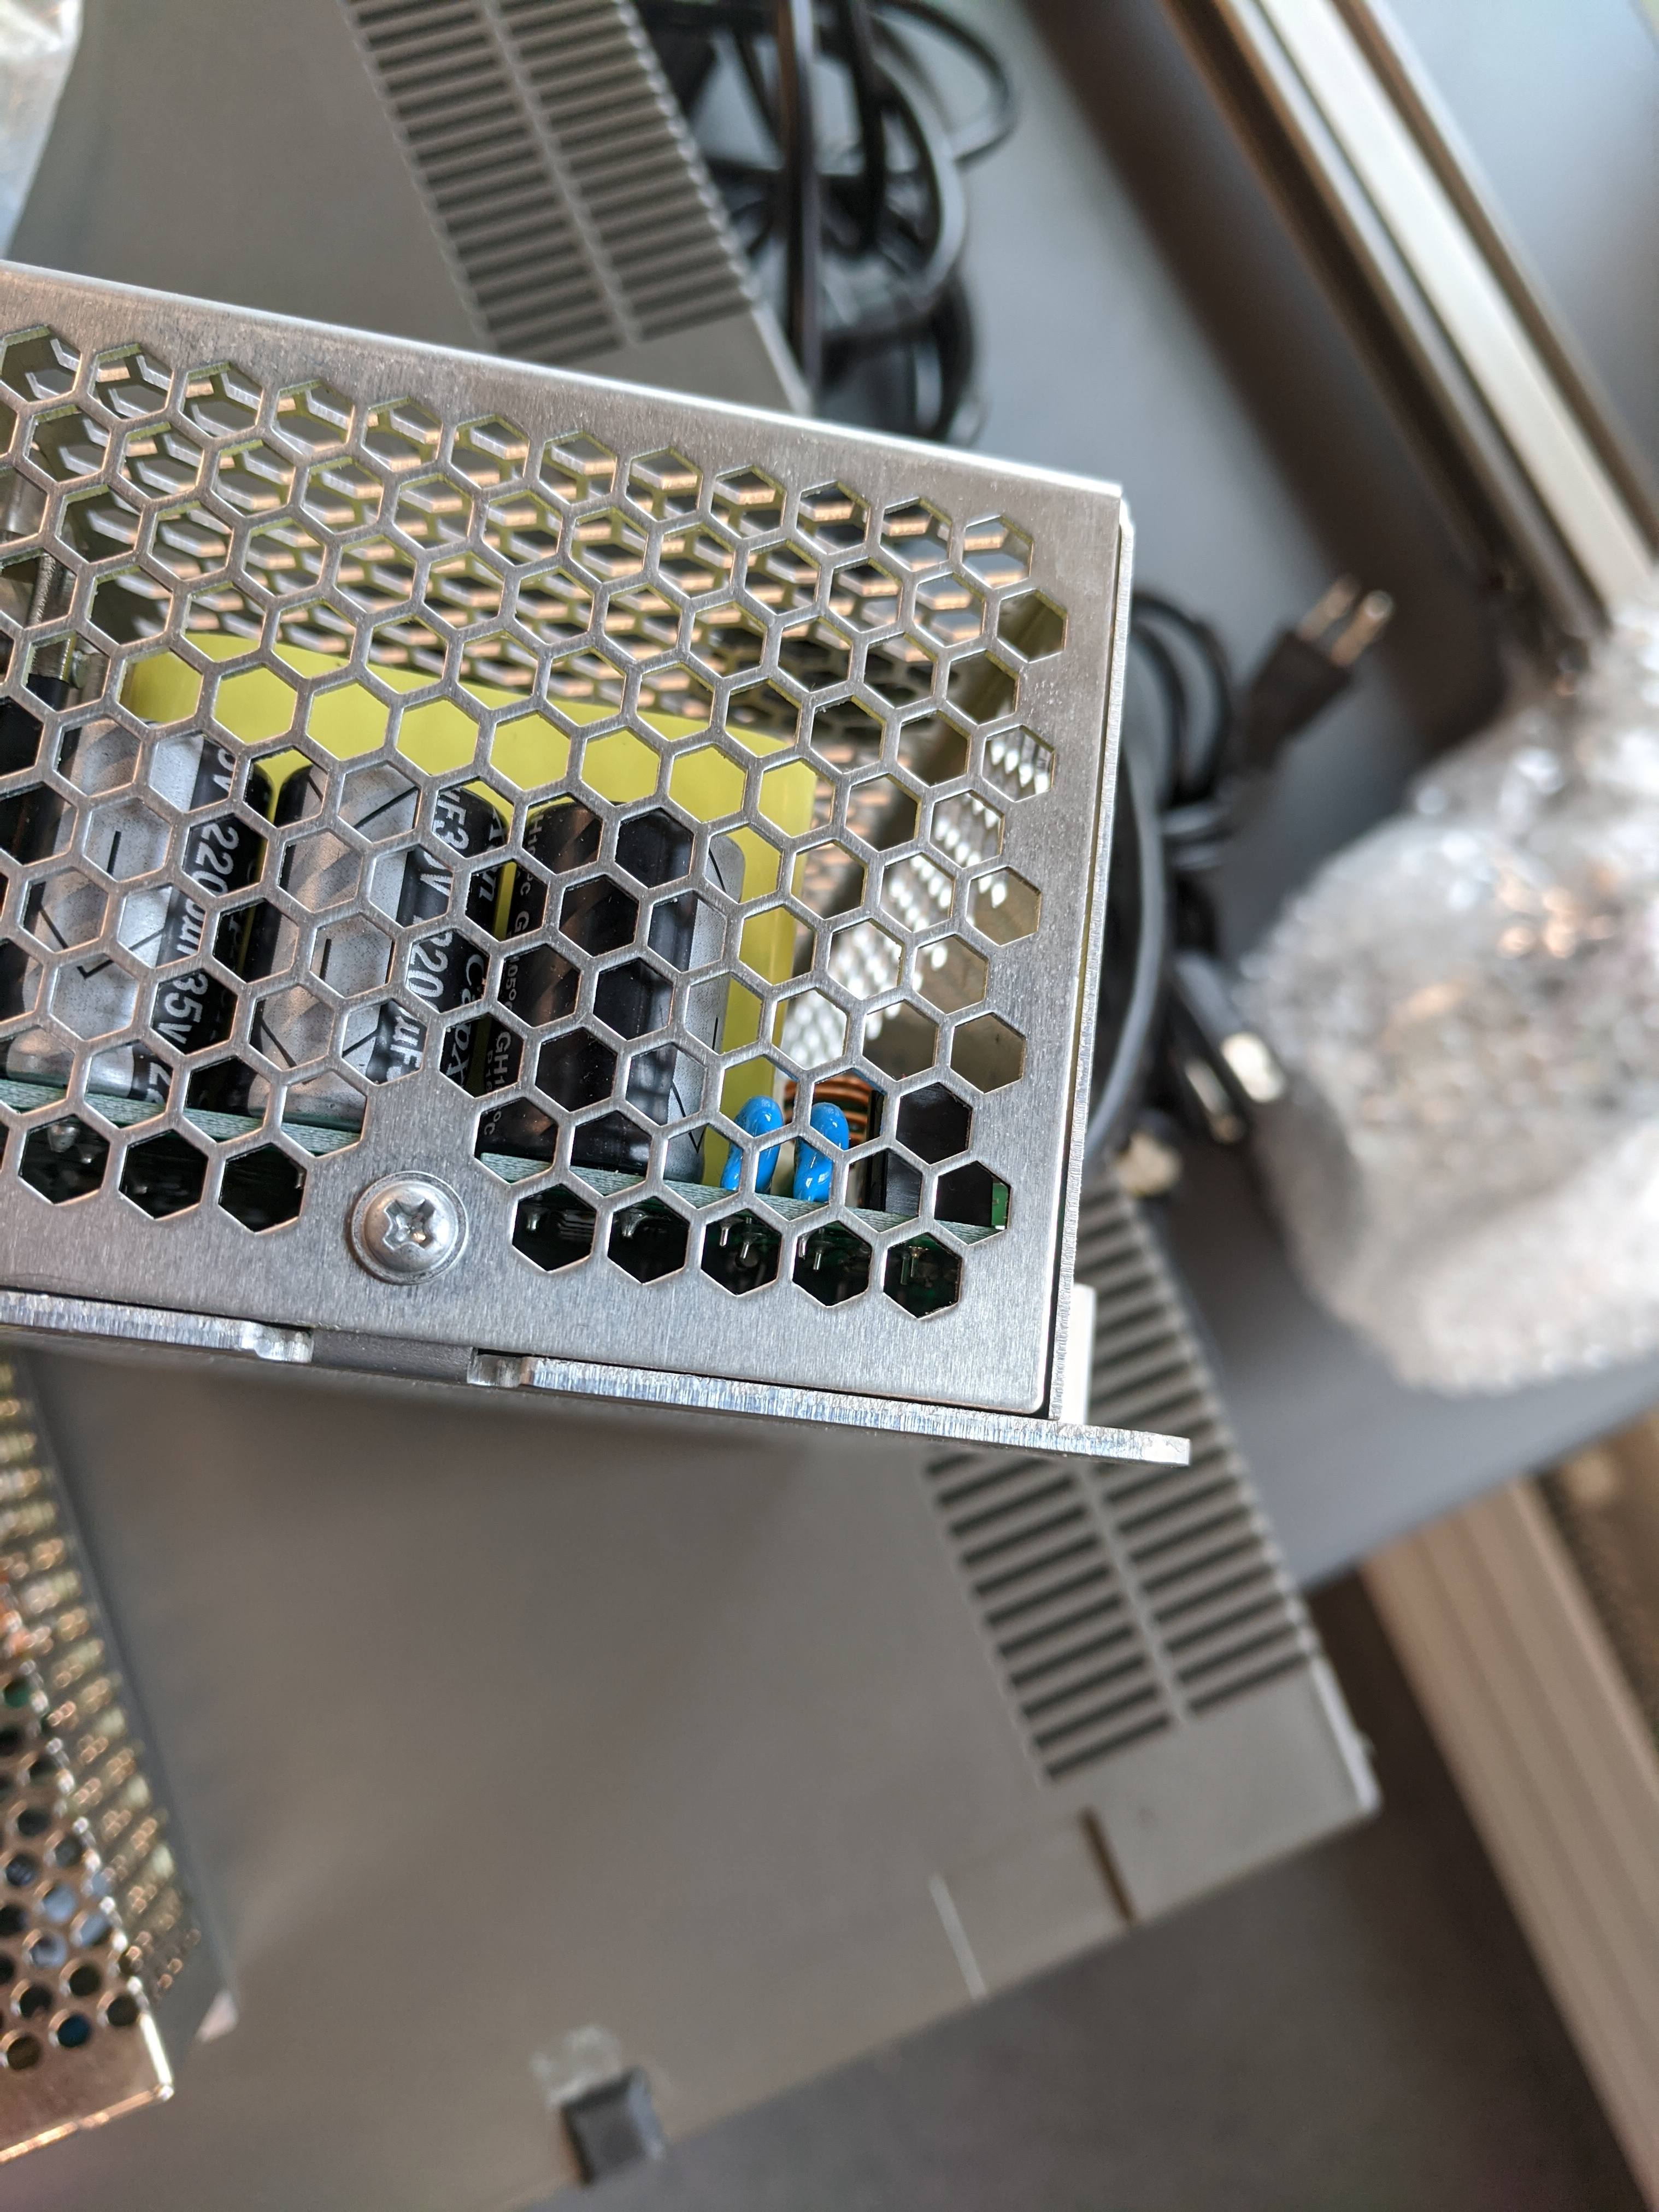cross_recessed_screw: (349, 1158, 460, 1285)
